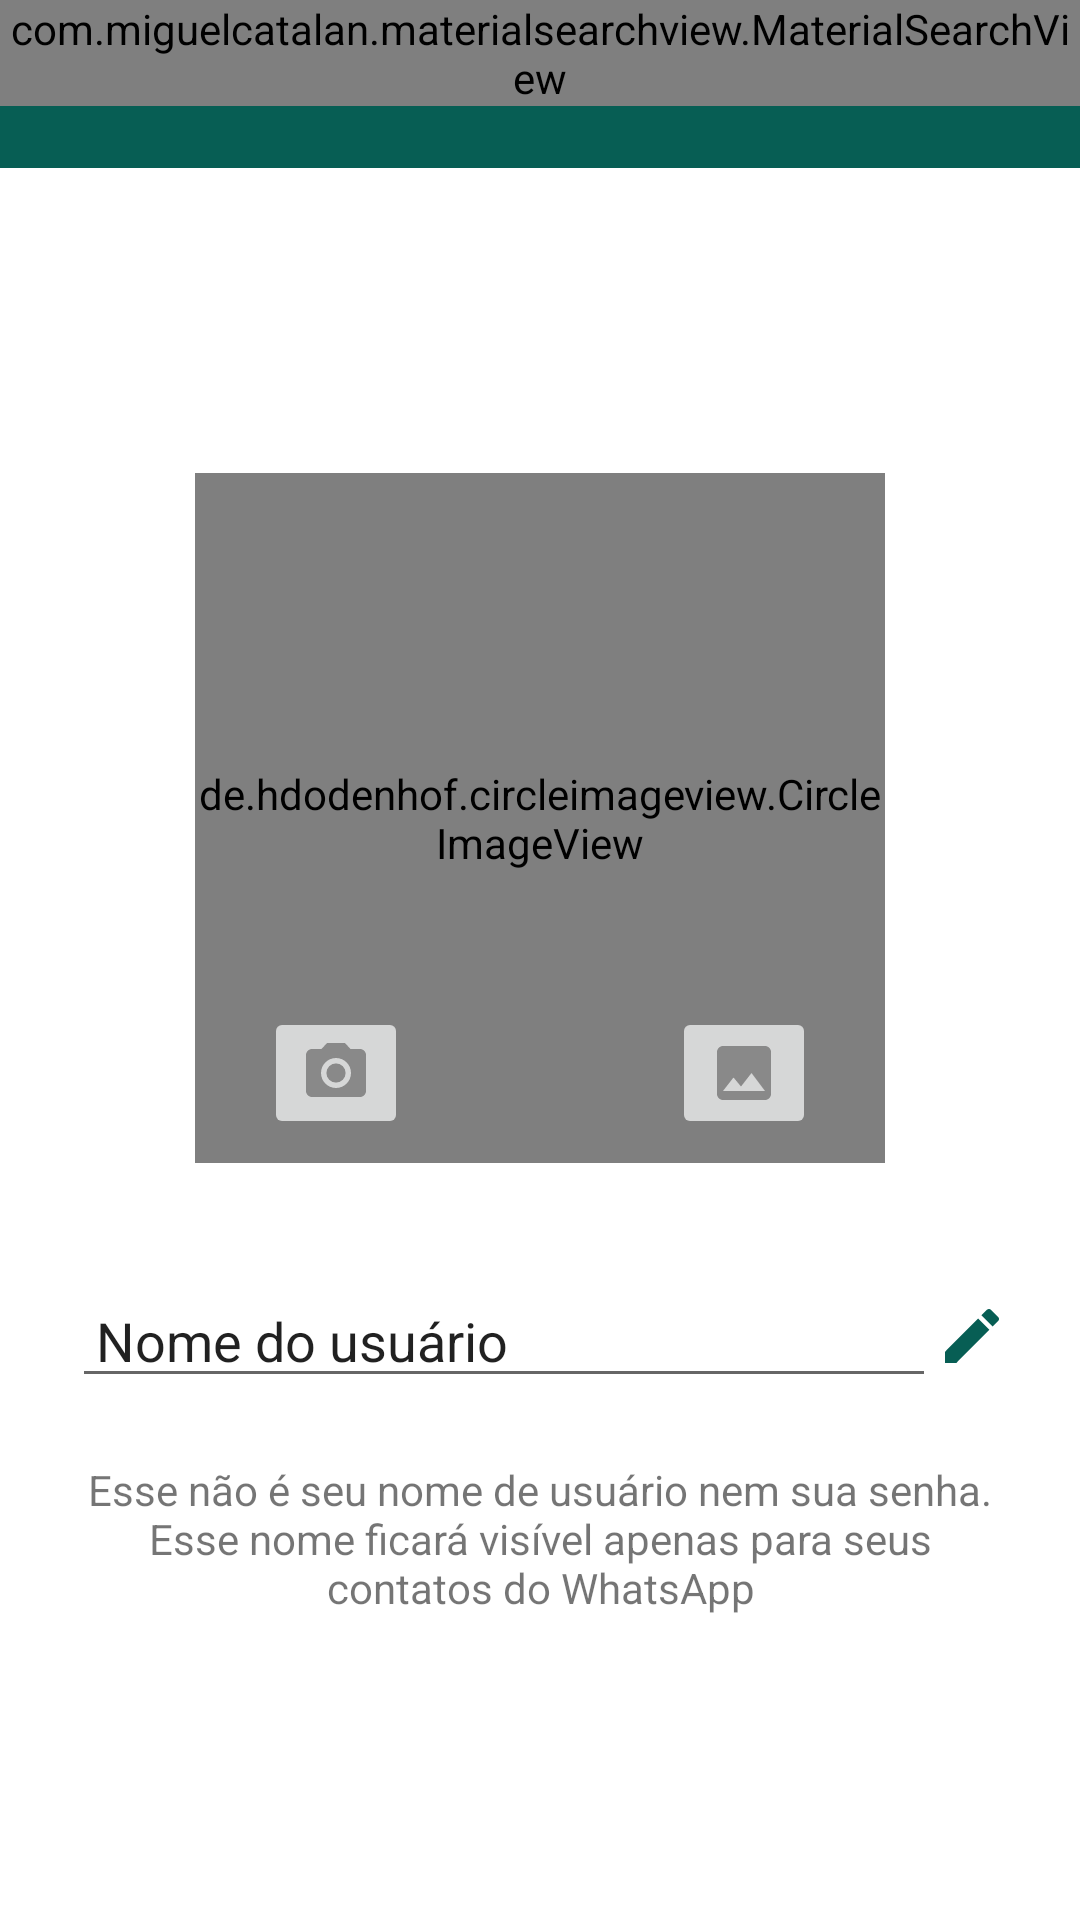

Locate icon controls on the screen. Image size 1080px x 1920px, boxes as (x1, y1, x2, y2).
camera cinza: (276, 1025, 396, 1121)
editar verde: (945, 1309, 999, 1363)
foto cinza: (684, 1025, 804, 1121)
